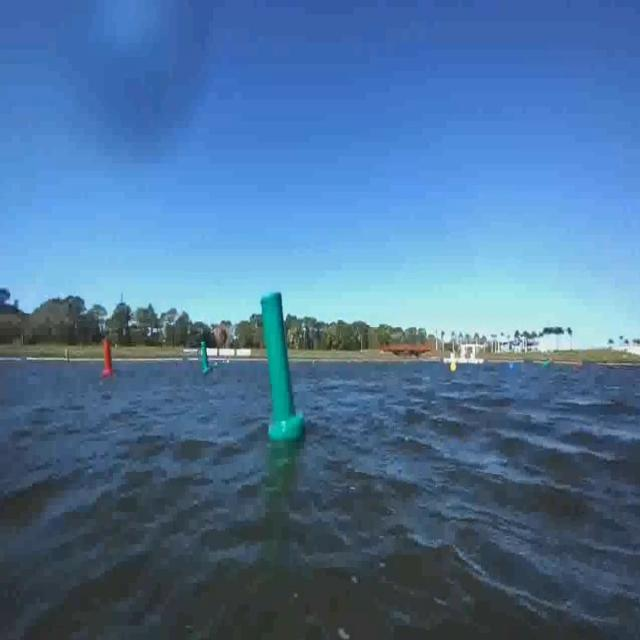blue-buoy: (509, 360, 514, 370)
green-column-buoy: (260, 286, 304, 440), (201, 342, 211, 374)
red-column-buoy: (100, 342, 113, 378)
yellow-buoy: (451, 359, 458, 373)
